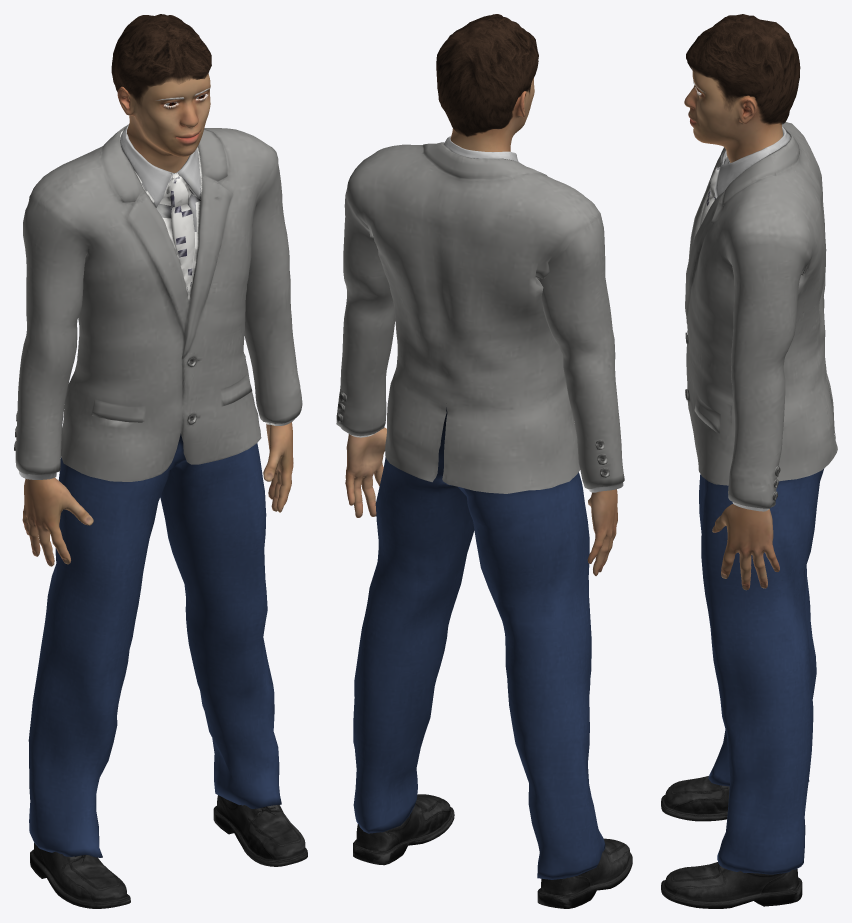
The model's file is male_suit.glb.
3 renders of one model, left to right at view 1: azimuth 30°, elevation 25°; view 2: azimuth 150°, elevation 25°; view 3: azimuth 270°, elevation 25°, orthographic.
Visible parts, largest first — view 1: suit, body, shoes, hair; view 2: suit, hair, shoes, body; view 3: suit, body, hair, shoes.
Boxes of the visible parts, left/top/right/bottom form: suit: left=14, top=124, right=302, bottom=857; body: left=22, top=73, right=293, bottom=566; shoes: left=30, top=795, right=307, bottom=908; hair: left=111, top=14, right=211, bottom=105; suit: left=336, top=136, right=624, bottom=879; hair: left=436, top=14, right=538, bottom=136; shoes: left=353, top=794, right=632, bottom=908; body: left=345, top=78, right=617, bottom=575; suit: left=685, top=122, right=837, bottom=874; body: left=684, top=69, right=782, bottom=590; hair: left=686, top=14, right=800, bottom=124; shoes: left=661, top=776, right=802, bottom=908.
Bounding box in the file's own units: 0.6092 × 1.75 × 0.3372.
Materials: 9 (9 with a texture image).
